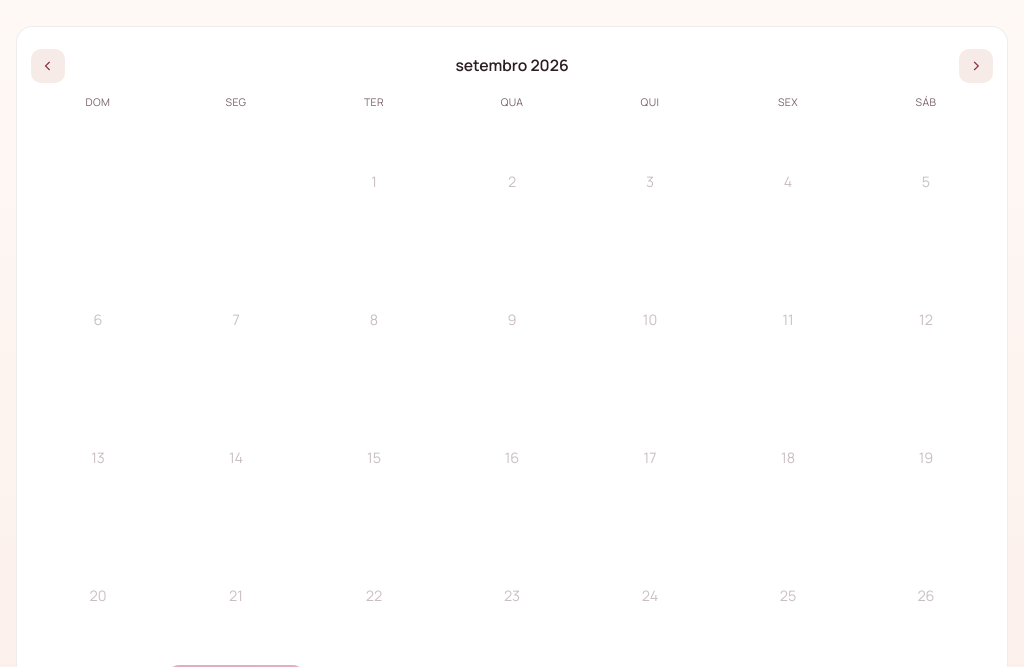
it: AgendaMes › navega para o mês seguinte e anterior
The image size is (1024, 667).
Click the button named "Próximo mês" at [976, 66], box [959, 49, 993, 83]
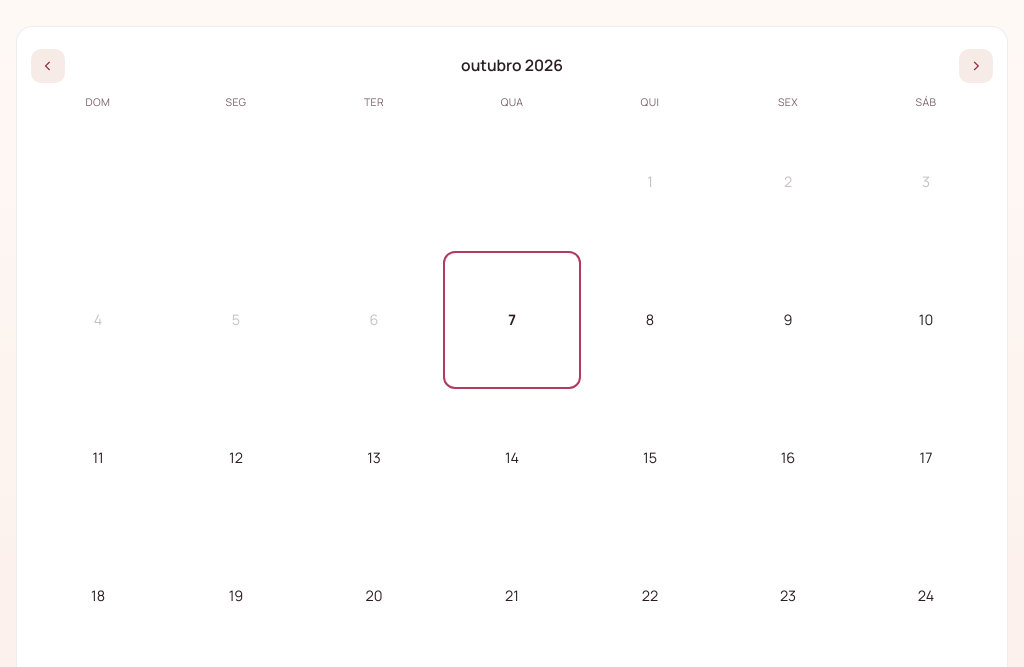
expect the text "outubro 2026" is shown: met, box [461, 54, 563, 78]
Click the button named "Mês anterior" at [48, 66], box [31, 49, 65, 83]
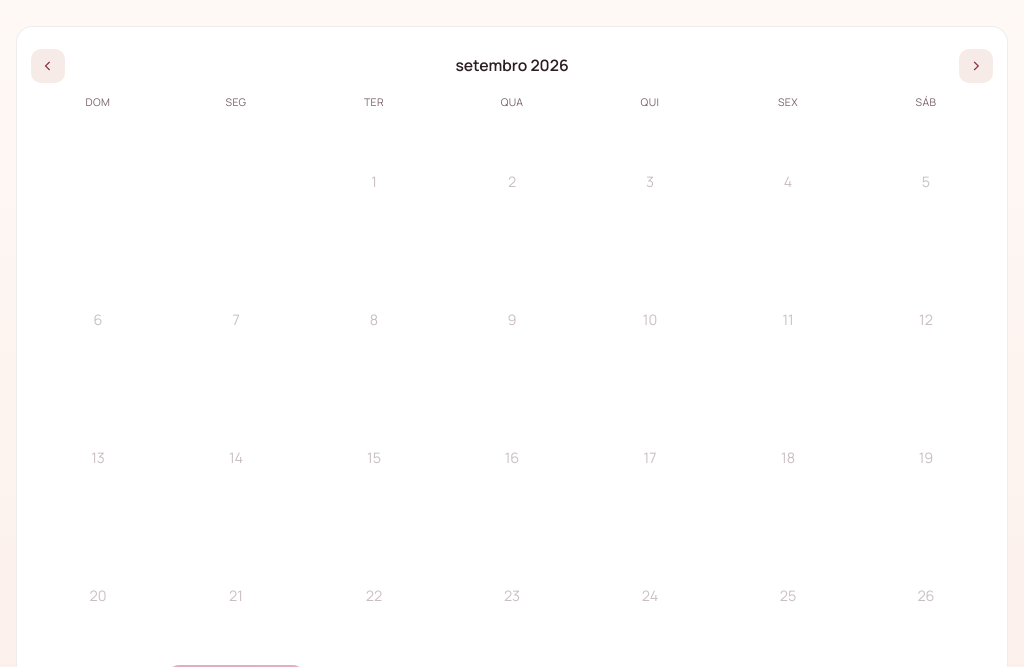
Click the button named "Mês anterior" at [48, 66], box [31, 49, 65, 83]
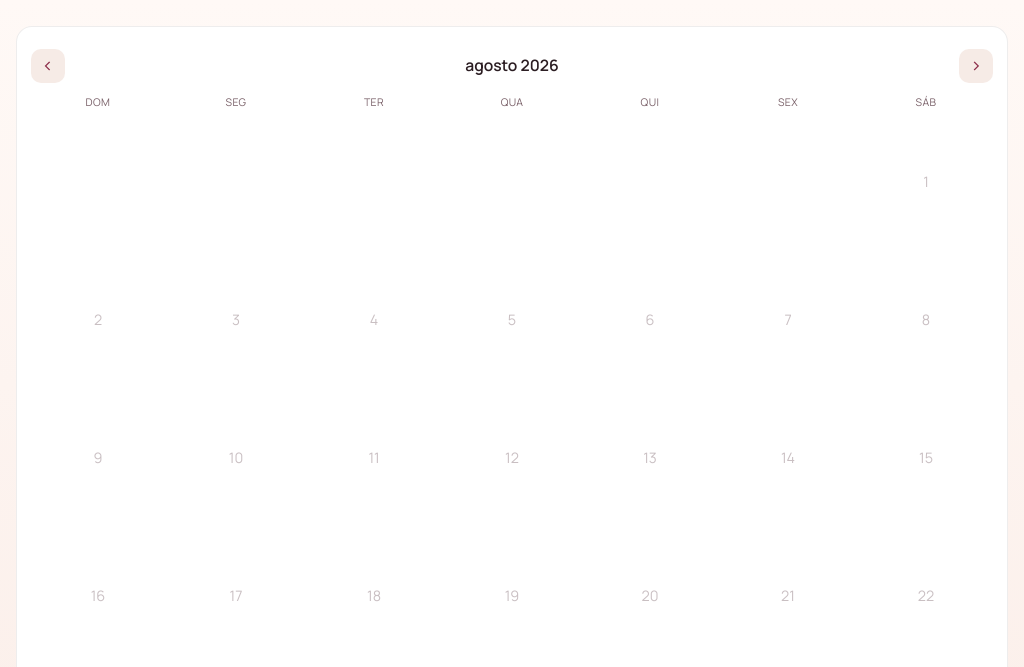
expect the text "agosto 2026" is shown: met, box [465, 54, 559, 78]
